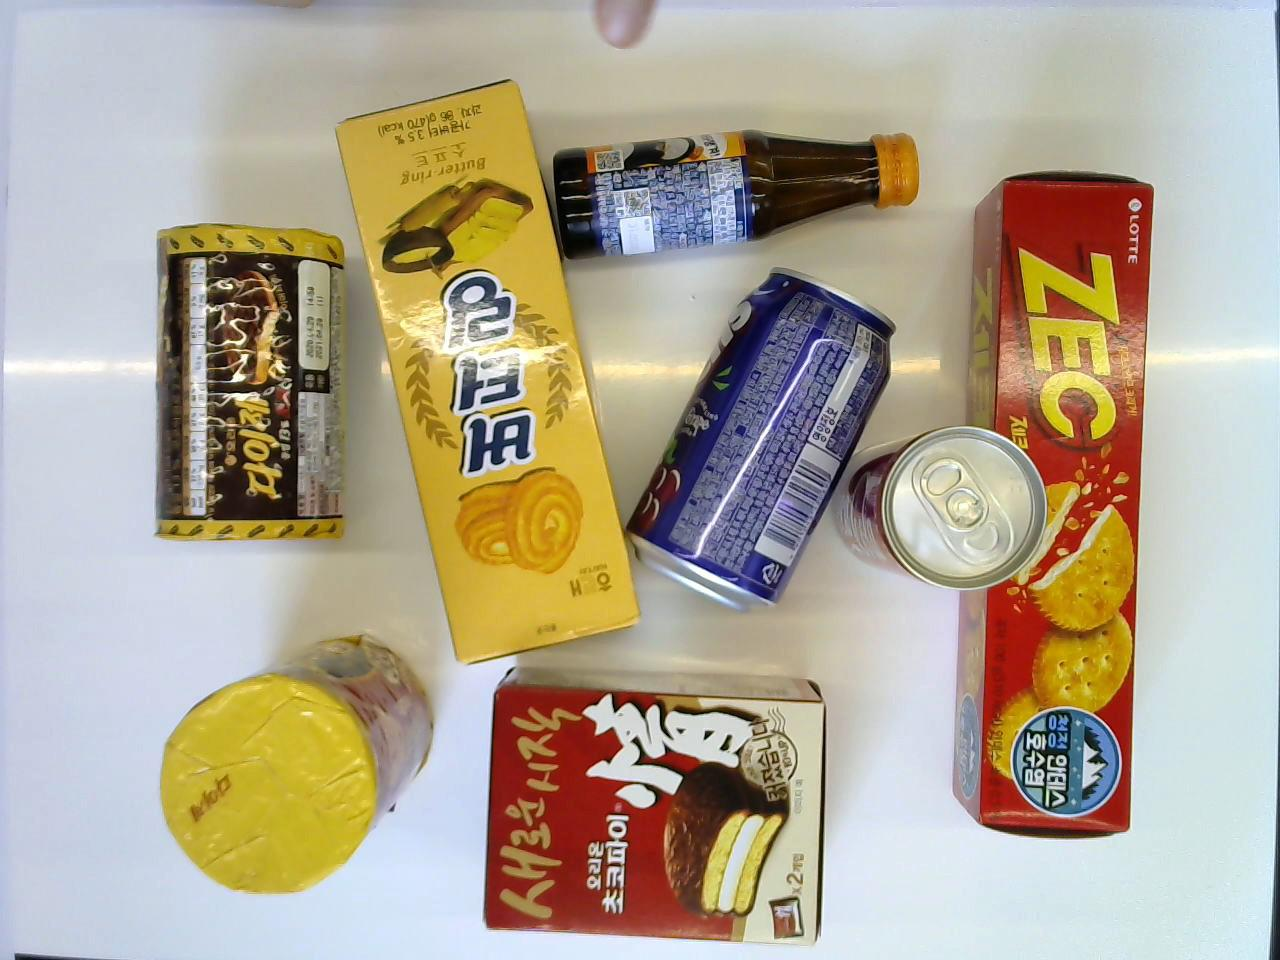buttering: (335, 74, 644, 667)
chocopie: (479, 659, 827, 948)
coke: (829, 425, 1045, 595)
diget_choco: (157, 220, 351, 548)
diget_ori: (158, 630, 432, 899)
vita500: (549, 123, 923, 262)
welchs: (626, 265, 899, 615)
zec: (953, 170, 1154, 843)
